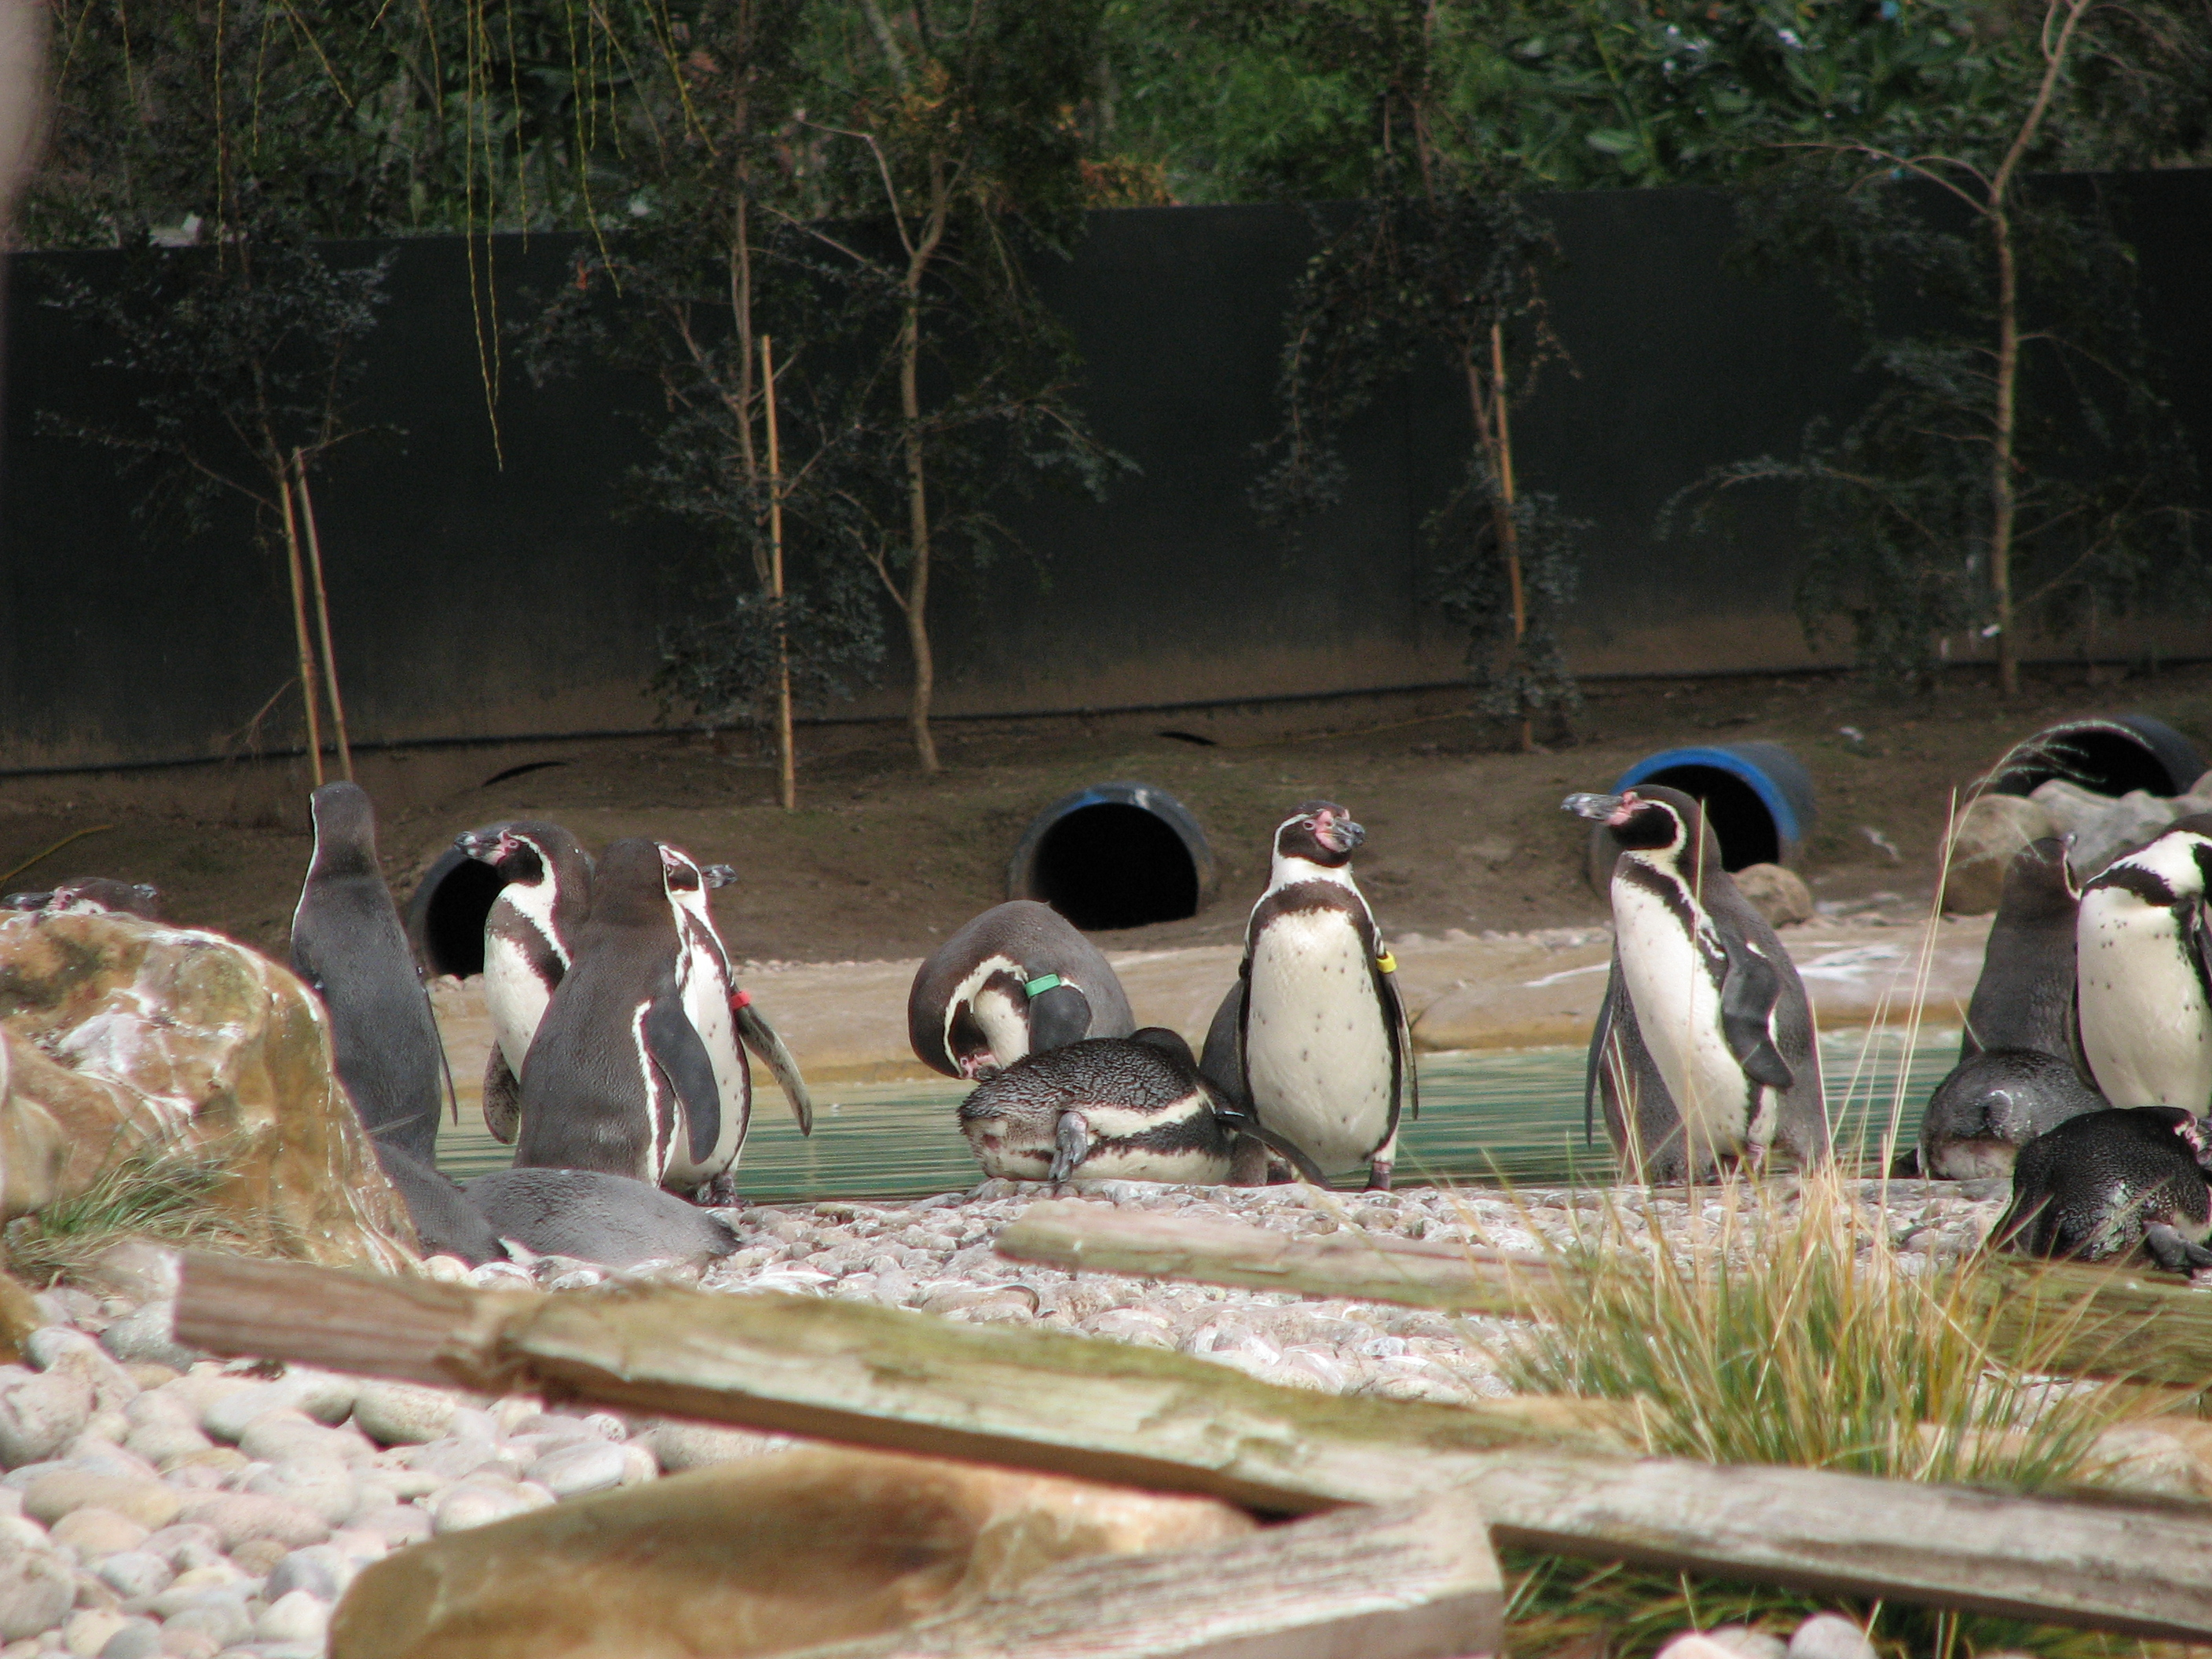penguin: (1566, 786, 1862, 1194), (526, 842, 742, 1232), (1233, 784, 1433, 1187)
